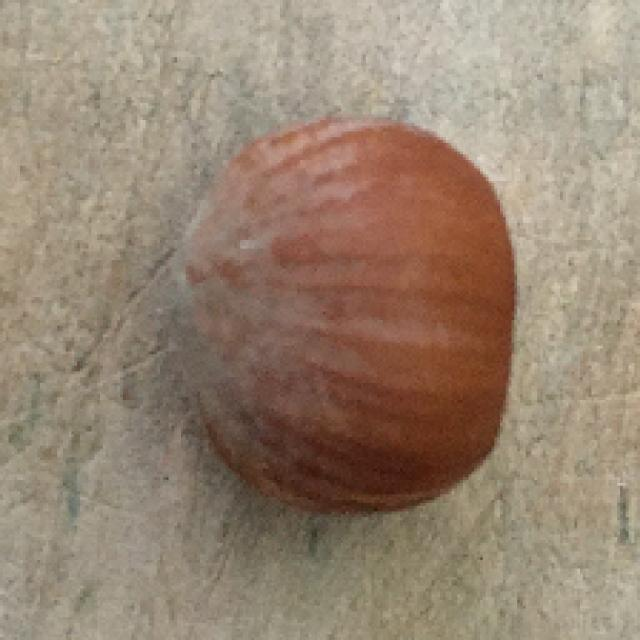qualityHazelnut: (154, 108, 526, 520)
